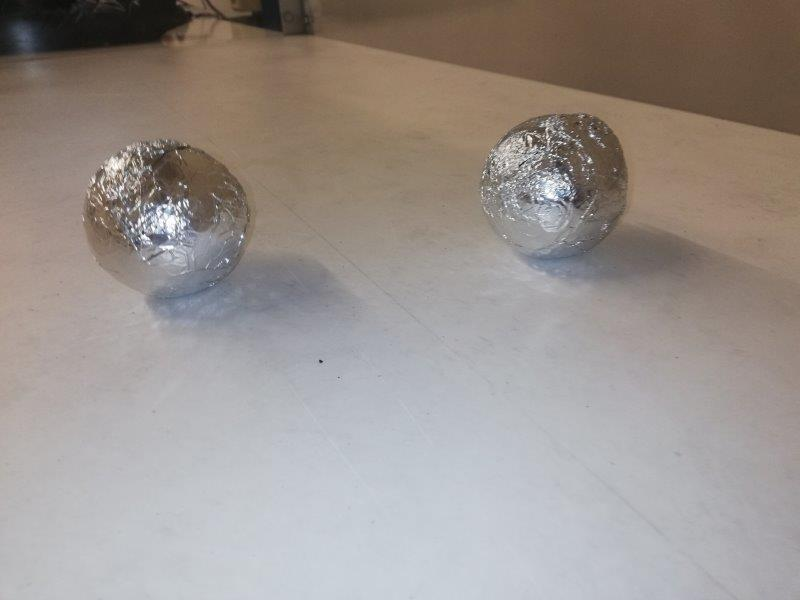bianca: (80, 137, 254, 299), (475, 113, 631, 259)
